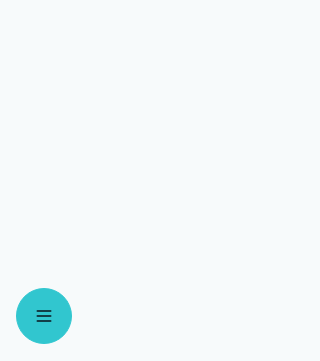
Scenario: shared New Wave IT surfaces › opens a short, unscrolled floating menu with only the essential destinations
The width and height of the screenshot is (320, 361).
What coordinates should you click on to do the following:
click the button named "Open navigation menu"
I would click on:
 (44, 316)
Its box is [16,288,72,344].
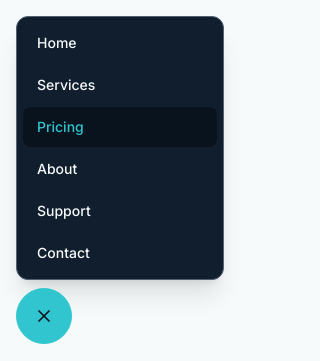
Result: the buttons read "Home", "Services", "Pricing", "About", "Support", "Contact", in this order at [23,23,217,63]; [23,65,217,105]; [23,107,217,147]; [23,149,217,189]; [23,191,217,231]; [23,233,217,273]
